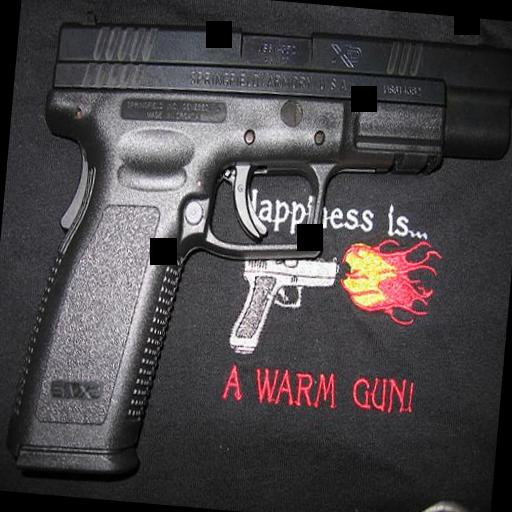Handgun: (0, 0, 512, 509), (228, 241, 342, 362)
